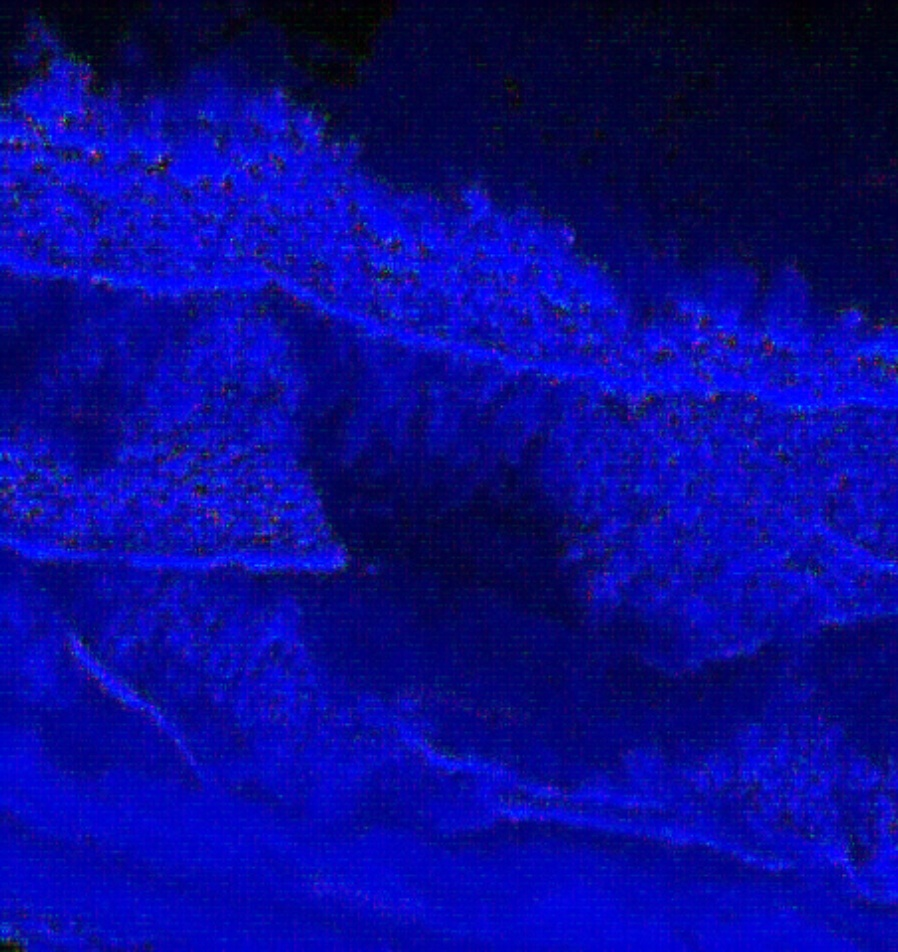rip_current: (243, 199, 744, 829)
